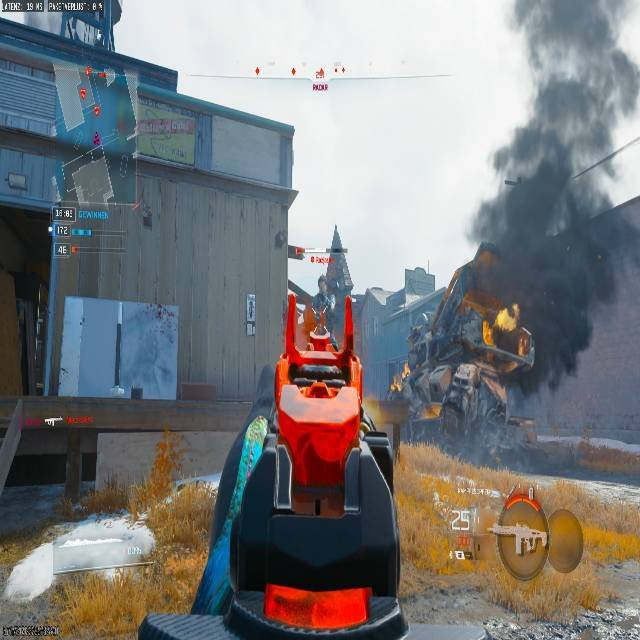player: (387, 266, 533, 447), (312, 272, 332, 333)
